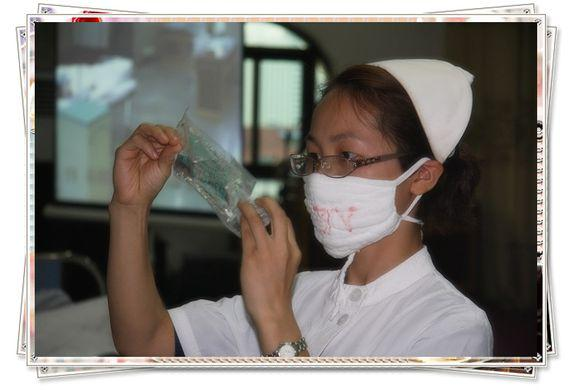OK: (304, 133, 419, 248)
